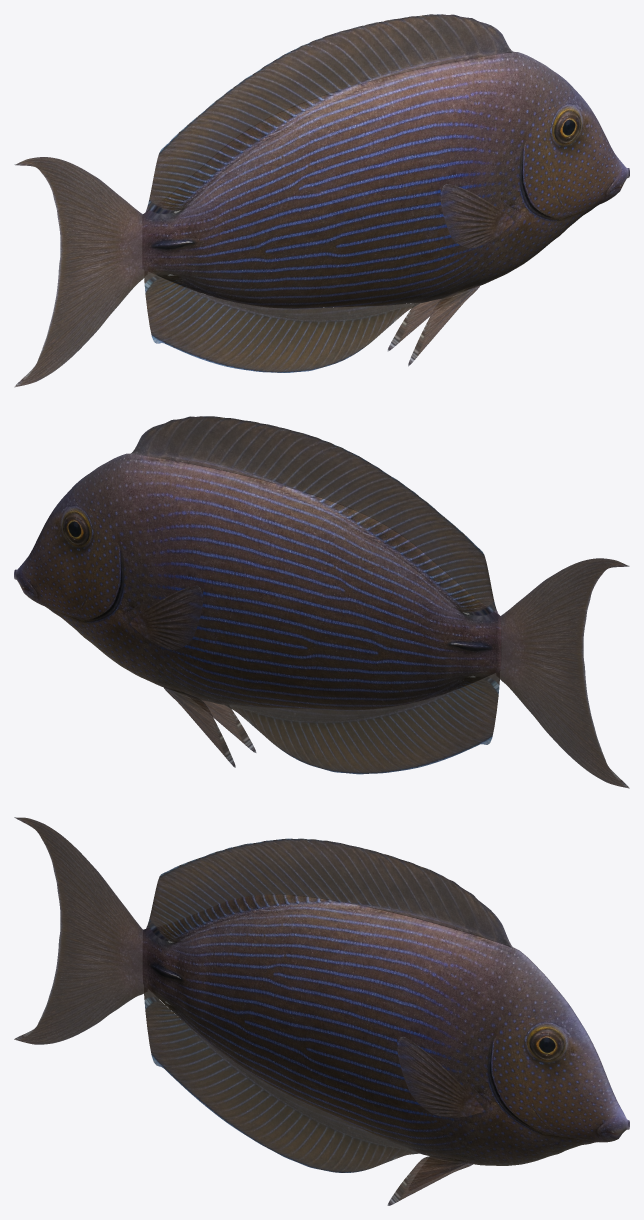
Rendered from strigosus.glb.
The picture shows the model from 3 angles, top to bottom: view 1: azimuth 30°, elevation 25°; view 2: azimuth 150°, elevation 25°; view 3: azimuth 330°, elevation 25°; orthographic projection.
Parts seen in each view (by area): view 1: strigosus__body, strigosus__fin_1, strigosus__fin_2, strigosus__fin_0, strigosus__gill_1, strigosus__pectoral_1, strigosus__pelvic_1, strigosus__pelvic_-1, strigosus__eye_1; view 2: strigosus__body, strigosus__fin_1, strigosus__fin_2, strigosus__fin_0, strigosus__gill_-1, strigosus__pectoral_-1, strigosus__pelvic_-1, strigosus__pelvic_1, strigosus__eye_-1; view 3: strigosus__body, strigosus__fin_1, strigosus__fin_2, strigosus__fin_0, strigosus__gill_1, strigosus__pectoral_1, strigosus__pelvic_1, strigosus__eye_1.
Part boxes in pixels (<box>): strigosus__body: <box>143,52,629,308</box>; strigosus__fin_1: <box>144,14,513,214</box>; strigosus__fin_2: <box>144,266,419,372</box>; strigosus__fin_0: <box>14,157,148,387</box>; strigosus__gill_1: <box>522,104,568,235</box>; strigosus__pectoral_1: <box>440,184,513,248</box>; strigosus__pelvic_1: <box>408,285,479,366</box>; strigosus__pelvic_-1: <box>387,299,441,351</box>; strigosus__eye_1: <box>555,111,579,143</box>; strigosus__body: <box>14,453,501,710</box>; strigosus__fin_1: <box>131,416,498,614</box>; strigosus__fin_2: <box>225,671,499,774</box>; strigosus__fin_0: <box>496,558,629,788</box>; strigosus__gill_-1: <box>75,506,121,636</box>; strigosus__pectoral_-1: <box>130,585,203,649</box>; strigosus__pelvic_-1: <box>163,686,235,767</box>; strigosus__pelvic_1: <box>201,700,256,752</box>; strigosus__eye_-1: <box>64,513,88,545</box>; strigosus__body: <box>143,894,629,1165</box>; strigosus__fin_1: <box>144,838,513,948</box>; strigosus__fin_2: <box>144,983,419,1172</box>; strigosus__fin_0: <box>14,817,148,1044</box>; strigosus__gill_1: <box>497,1010,545,1135</box>; strigosus__pectoral_1: <box>397,1036,483,1117</box>; strigosus__pelvic_1: <box>387,1156,473,1205</box>; strigosus__eye_1: <box>530,1029,562,1060</box>.
Bounding box in the file's own units: 1.27 × 0.6748 × 0.1558.
5 materials, 5 textured.
